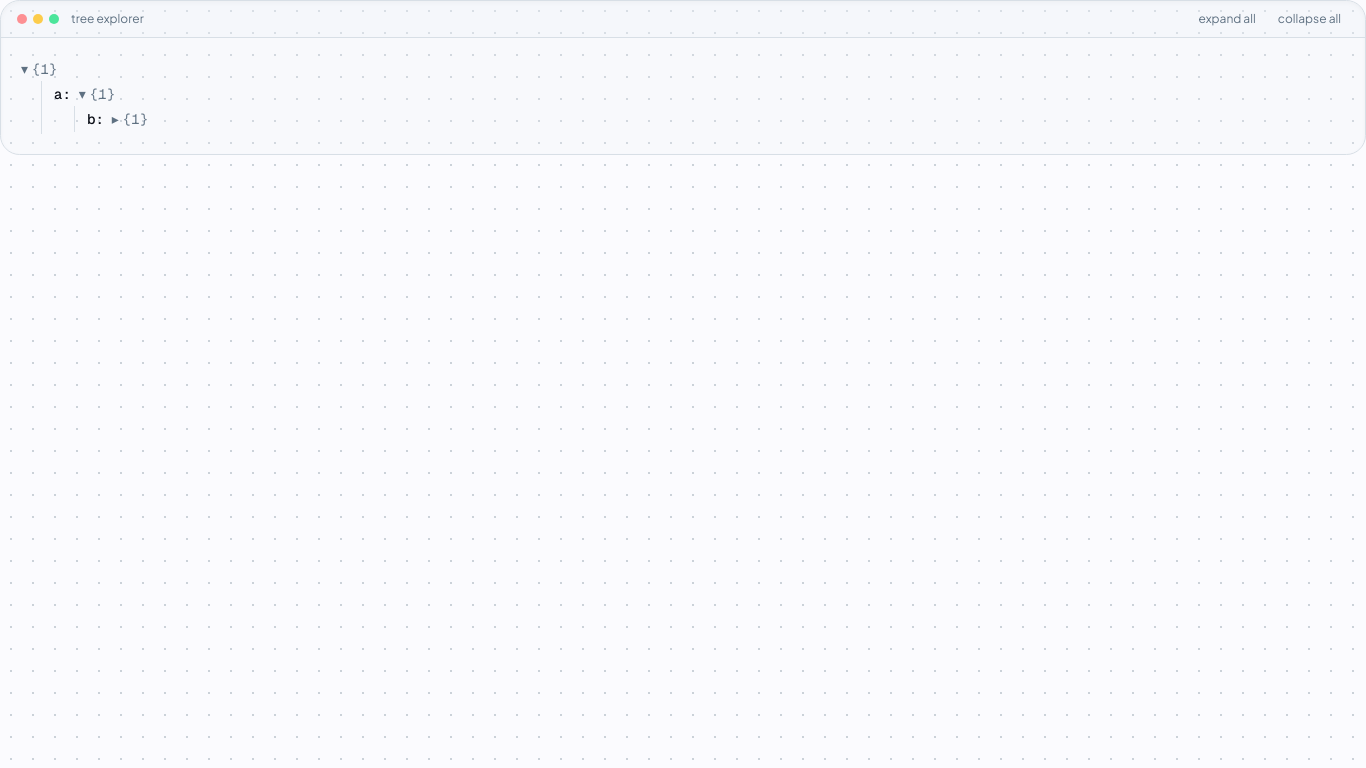
TreePanel › expands a collapsed node on toggle click
The width and height of the screenshot is (1366, 768).
Check: the text "c:" is not shown
Click the button named "expand" at (115, 119), box left=112, top=108, right=119, bottom=130
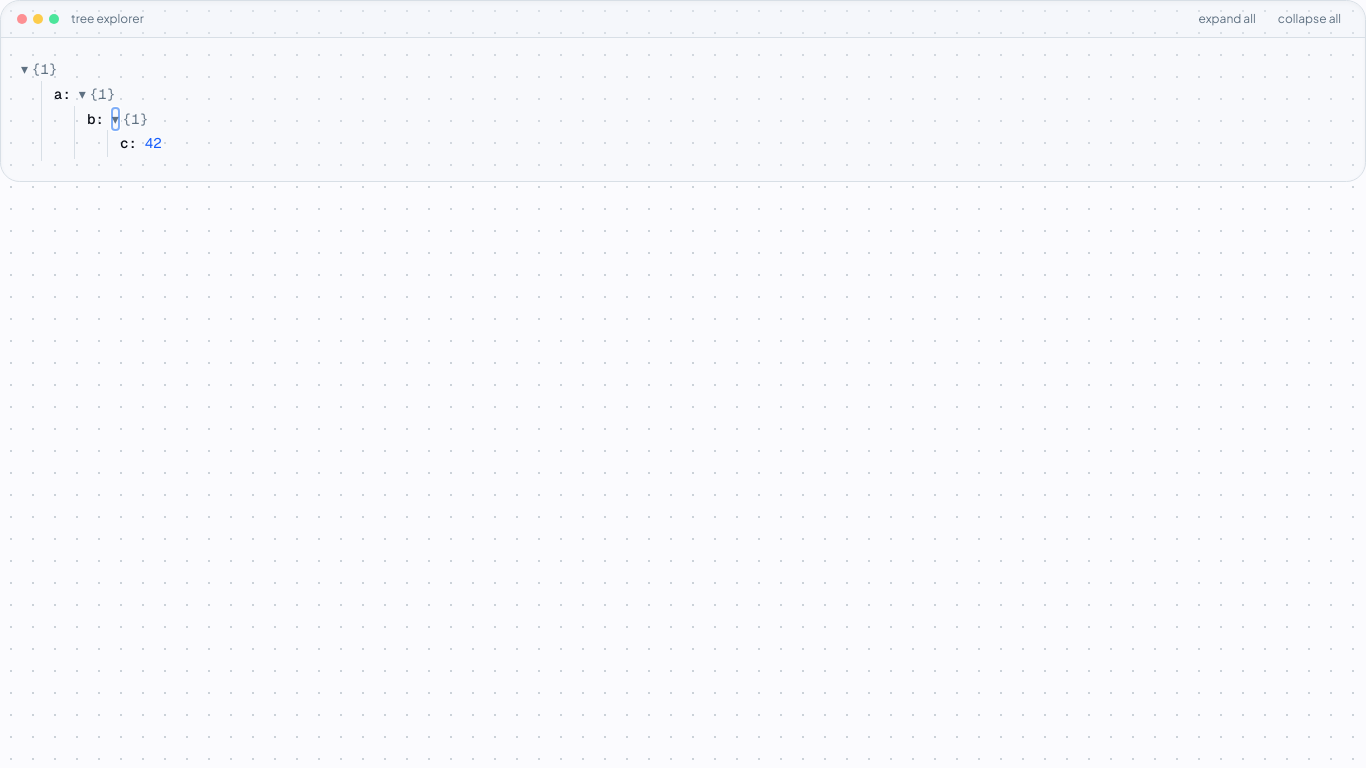
Check: the text "c:" is shown, box left=120, top=134, right=137, bottom=152
